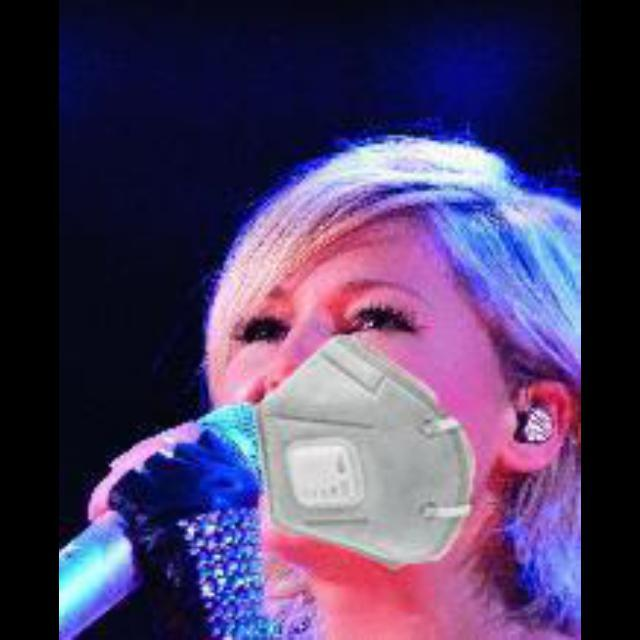suspicion: (149, 173, 545, 592)
